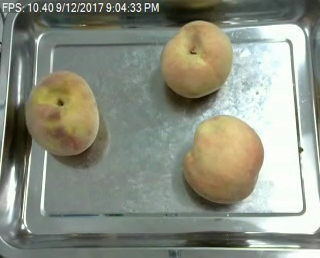Peach: (183, 115, 264, 205), (25, 69, 100, 157), (161, 18, 232, 99)
